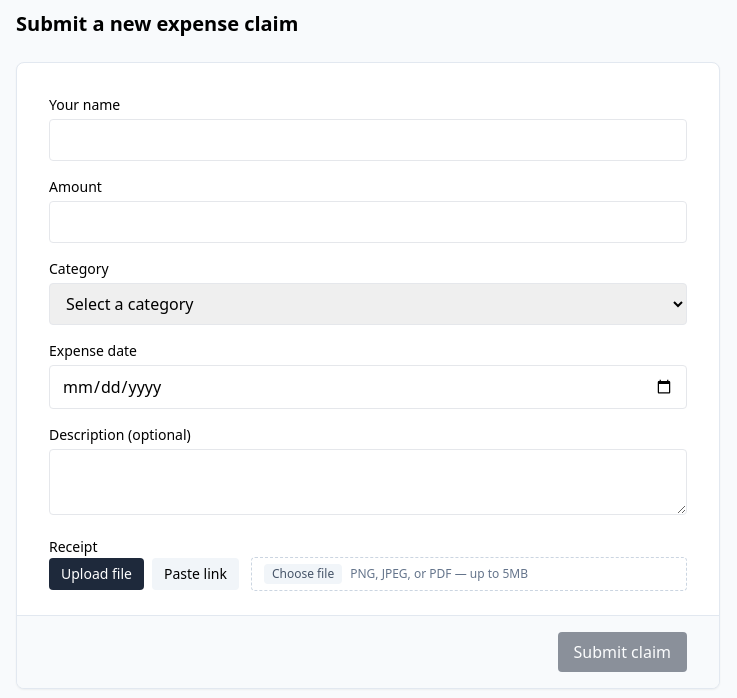
Test case: New claim submission — network/server failure handling › shows a network-error message distinct from any status badge
Type "Jane Employee" into the field labelled "Your name".
click(368, 140); type("Jane Employee")  # box [49,119,687,161]
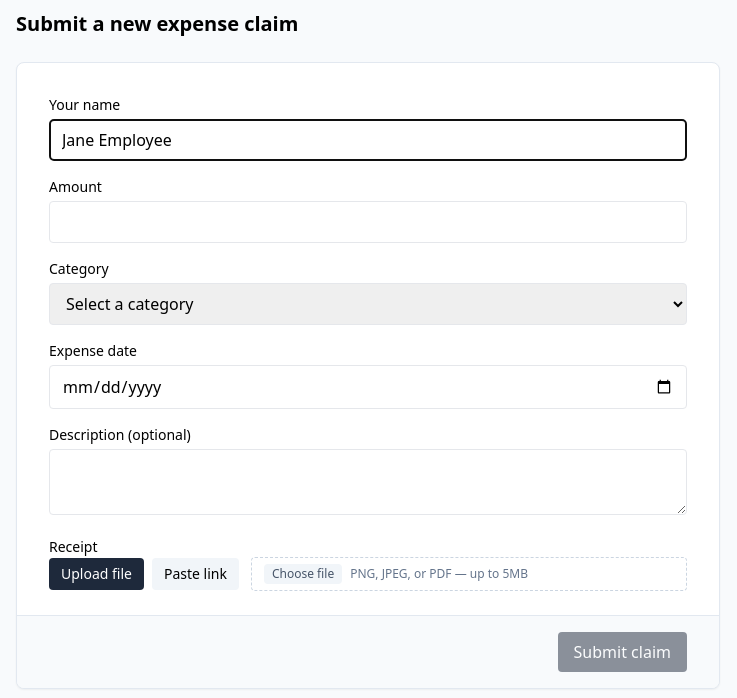
Type "20" into the field labelled "Amount".
click(368, 222); type("20")  # box [49,201,687,243]
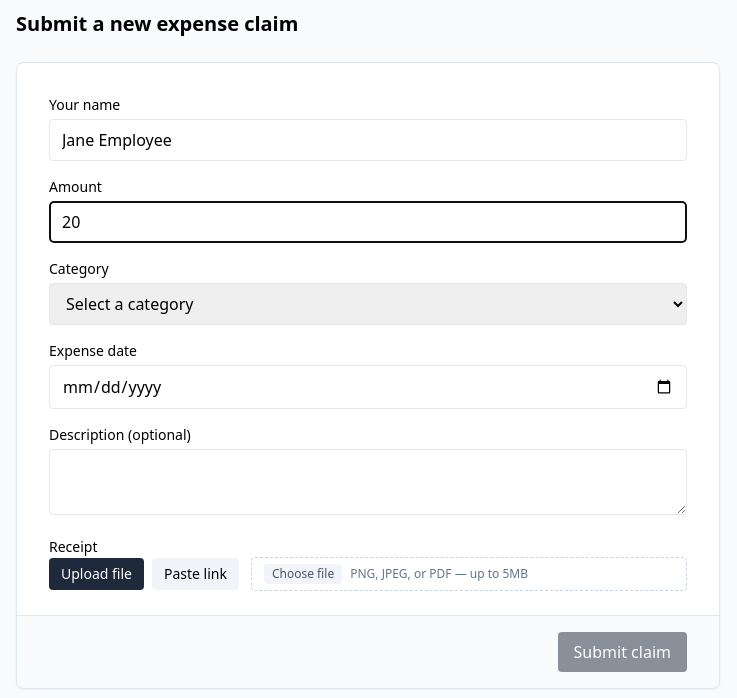
Select "meals" in the dropdown labelled "Category" at (368, 304), box [49,283,687,325]
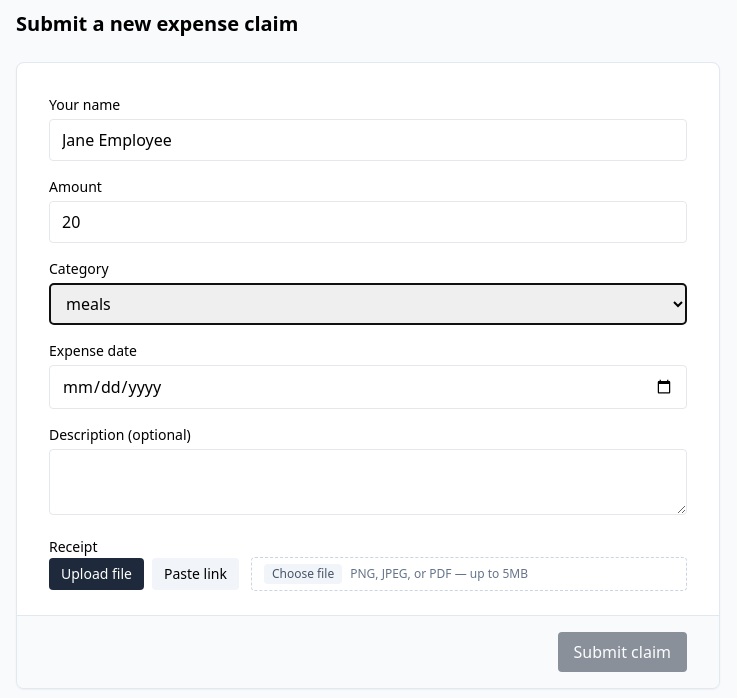
Type "2026-01-01" into the date field labelled "Expense date".
click(368, 387); type("2026-01-01")  # box [49,365,687,409]
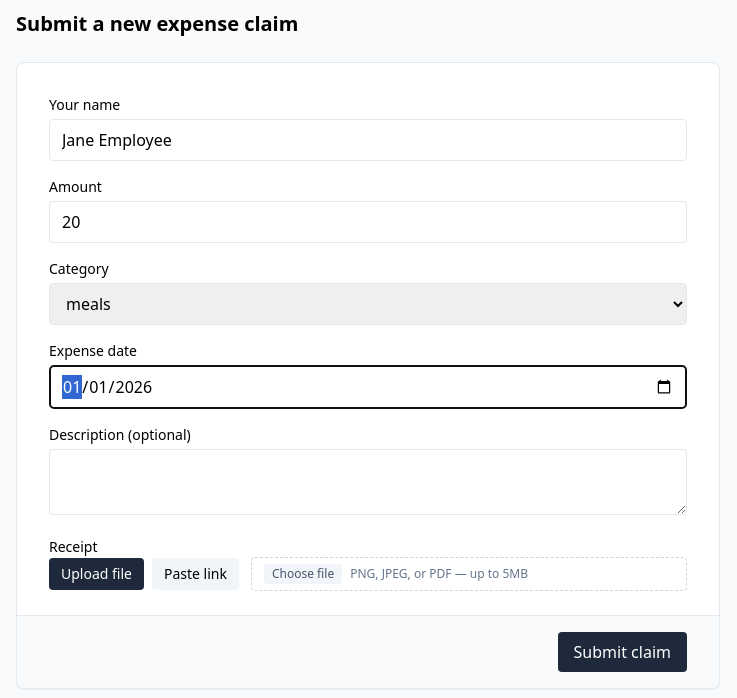
Click the button "Submit claim".
click(622, 652)  # box [558,632,687,672]
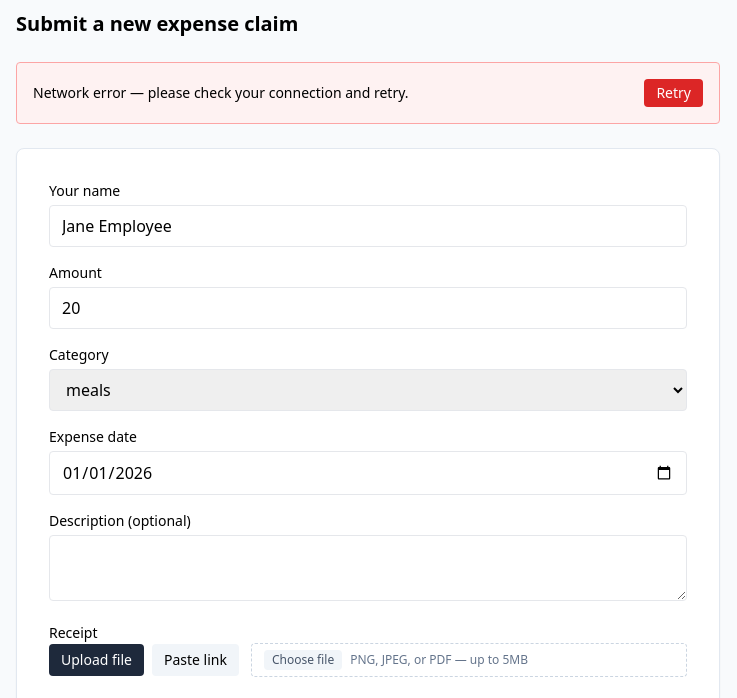
expect the message shows "Network error": met, box [33,83,408,102]
